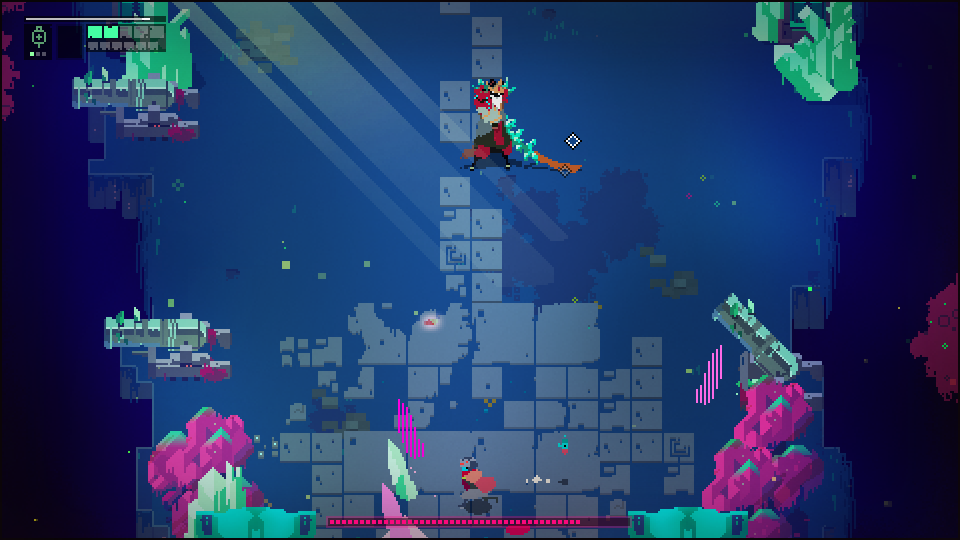hanged_crys: (382, 441, 419, 500), (379, 488, 417, 540), (392, 397, 424, 457)
hanged_man: (461, 76, 546, 179), (457, 454, 496, 508)
